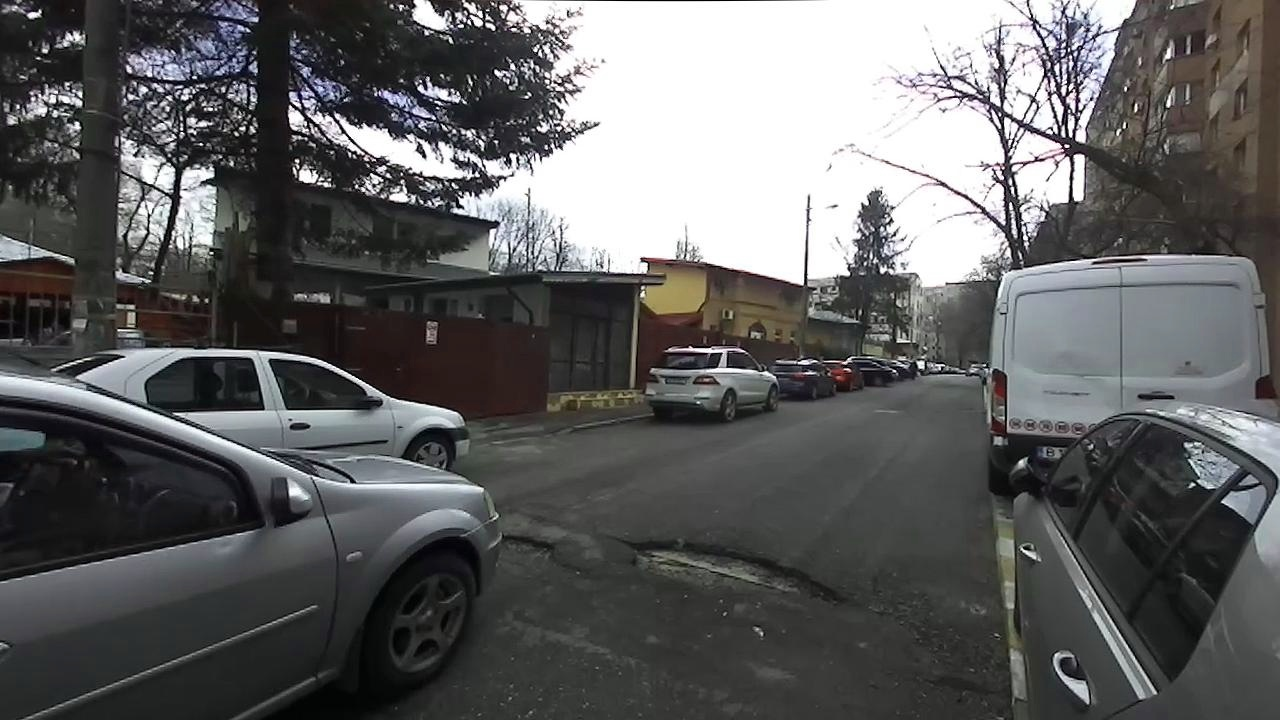pothole: (612, 532, 864, 615), (499, 527, 564, 568)
